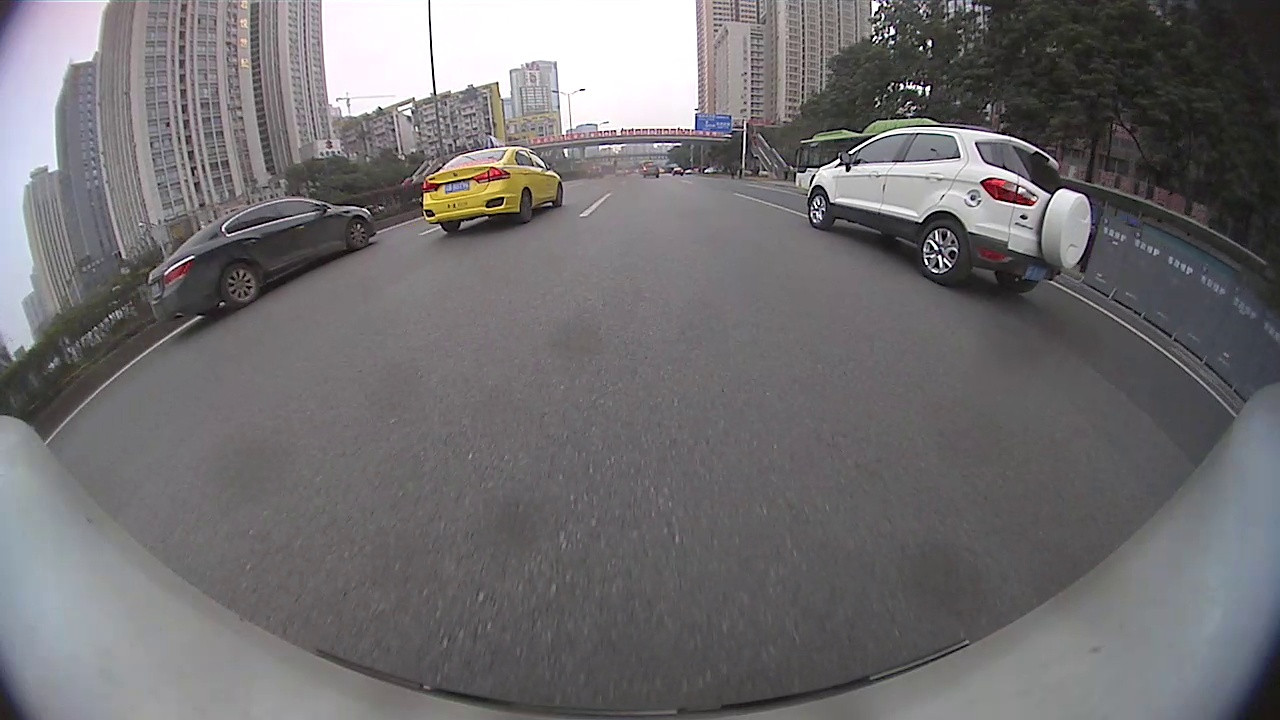bus: (796, 118, 947, 197)
car: (807, 124, 1089, 292), (147, 196, 377, 321), (420, 145, 564, 235), (642, 163, 659, 178)
front: (806, 193, 830, 232), (346, 220, 373, 251), (555, 182, 565, 207)
rear: (916, 218, 969, 285), (219, 257, 259, 309), (517, 189, 538, 226)
